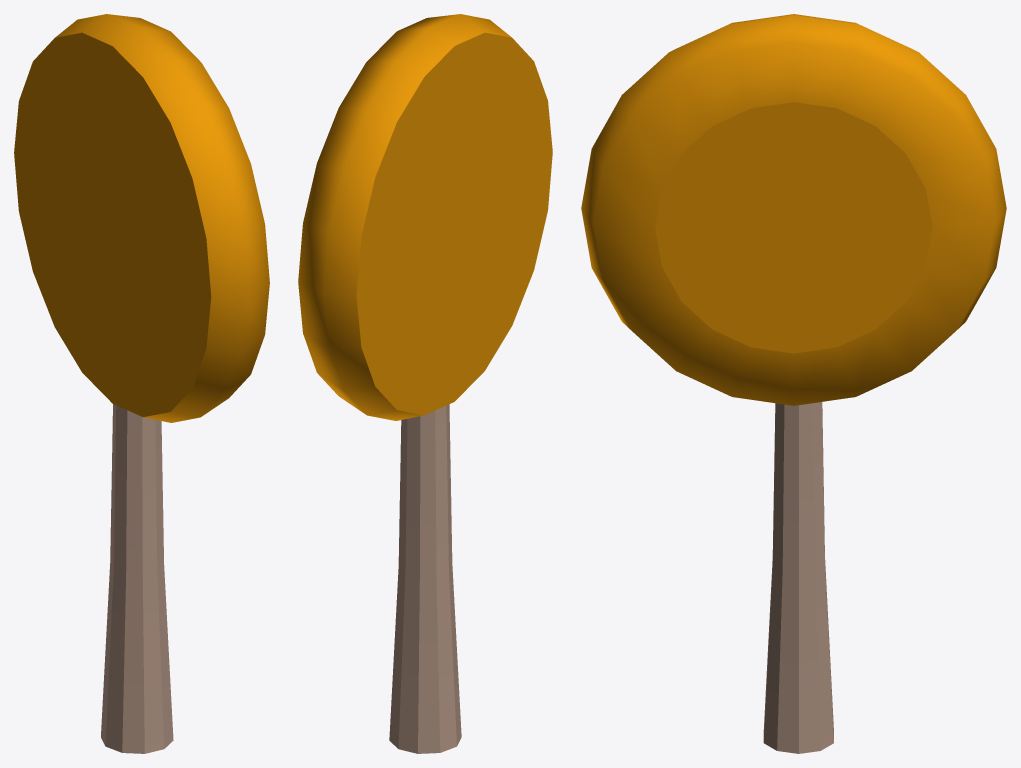
Rendered from lollipop.fbx.
3 views of the same model, side by side, from view 1: azimuth 30°, elevation 25°; view 2: azimuth 150°, elevation 25°; view 3: azimuth 270°, elevation 25° (orthographic).
Visible parts, largest first — view 1: lollipop; view 2: lollipop; view 3: lollipop.
Boxes of the visible parts, <box> form: lollipop: <box>14,14,269,753</box>; lollipop: <box>298,14,552,753</box>; lollipop: <box>581,14,1006,753</box>.
Size of the model in its own units: 15.17 by 149 by 78.19.
